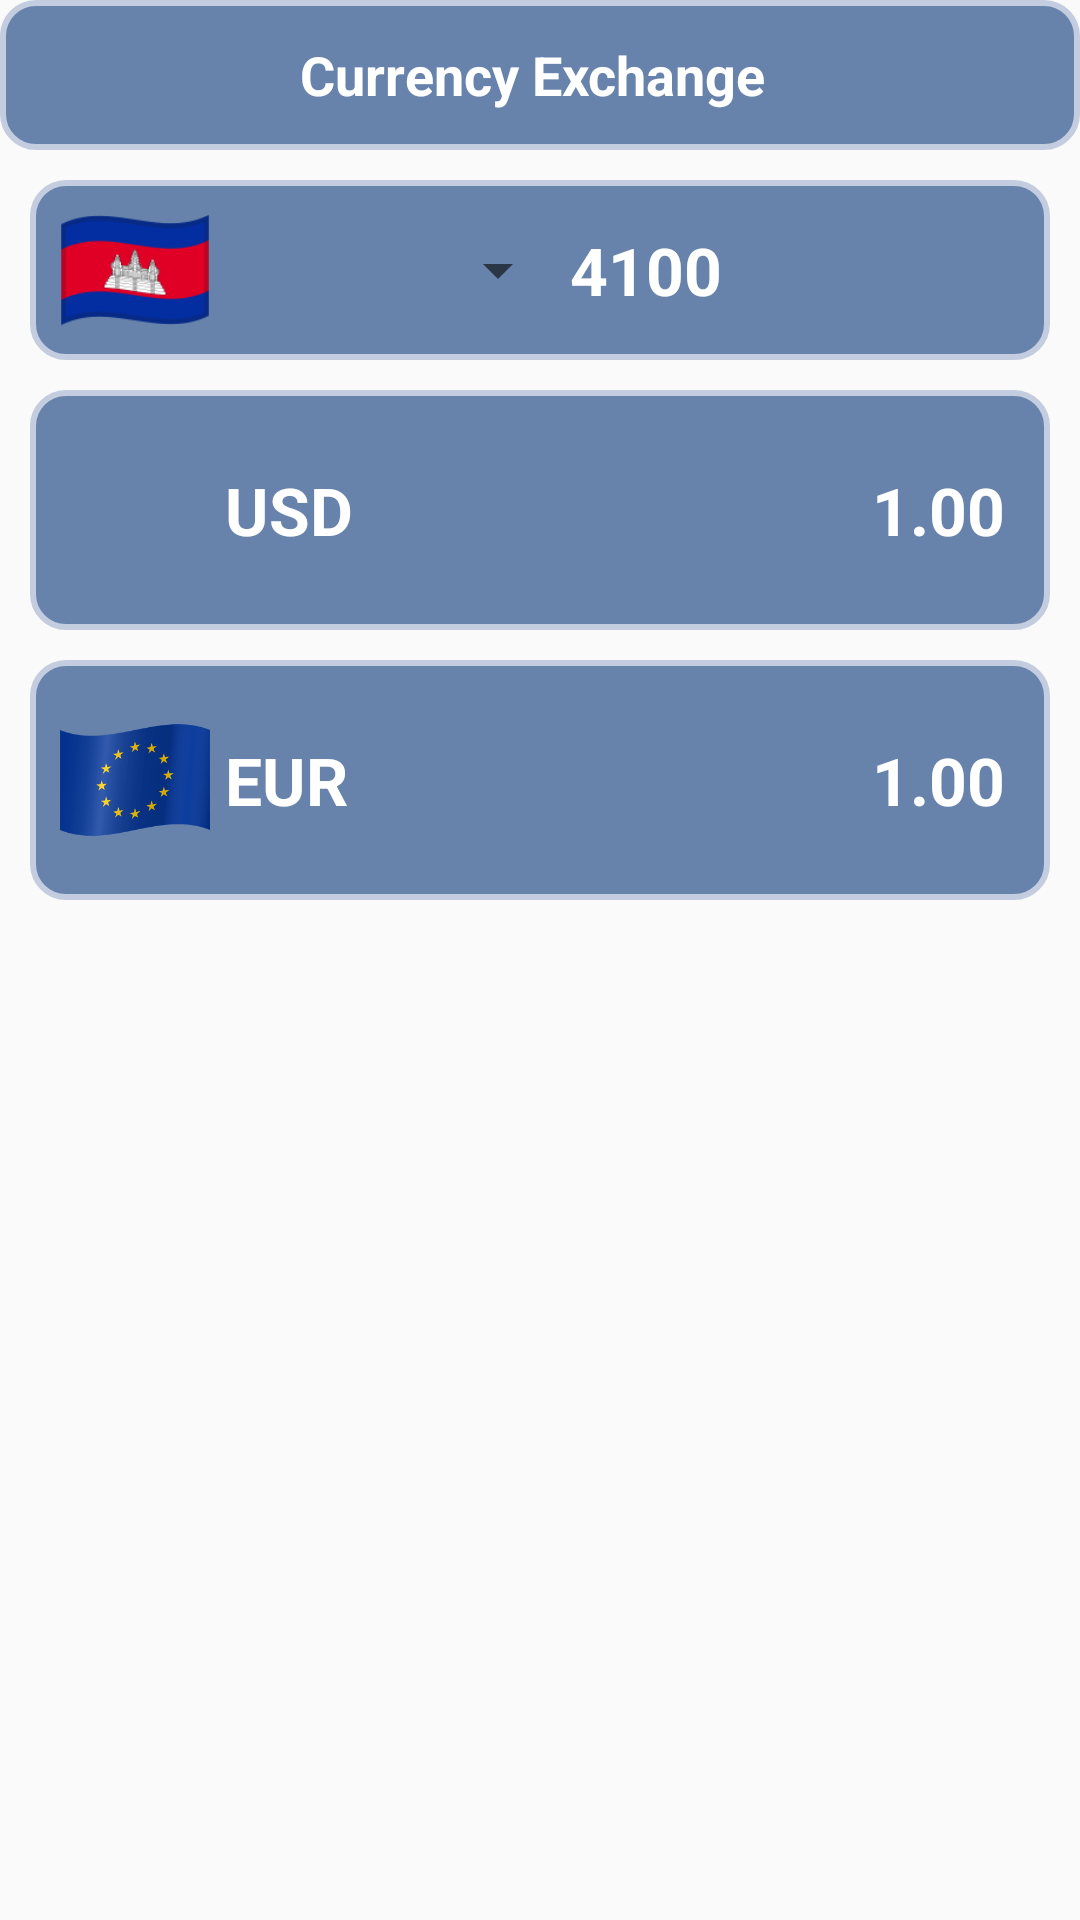

Named icons in this screenshot (1080 × 1920) and their centers, (x=x, y=y):
cambodia flag circle: (x=135, y=270)
